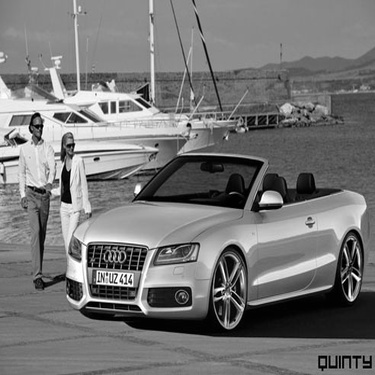car: (53, 146, 371, 342)
